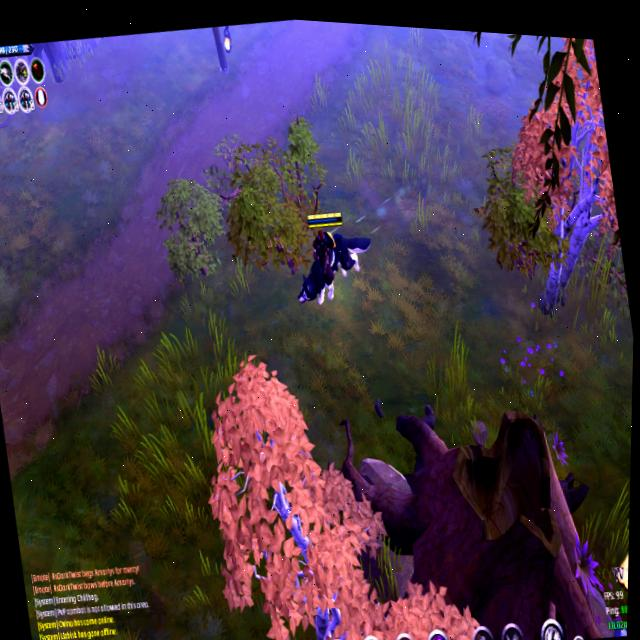red: (277, 201, 387, 320)
wisp caged: (178, 313, 491, 640), (484, 33, 638, 342)
